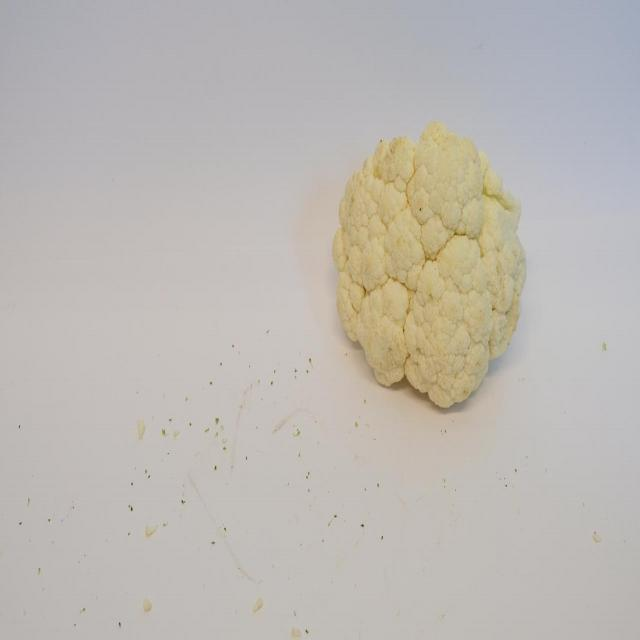cauliflower: (331, 115, 530, 418)
